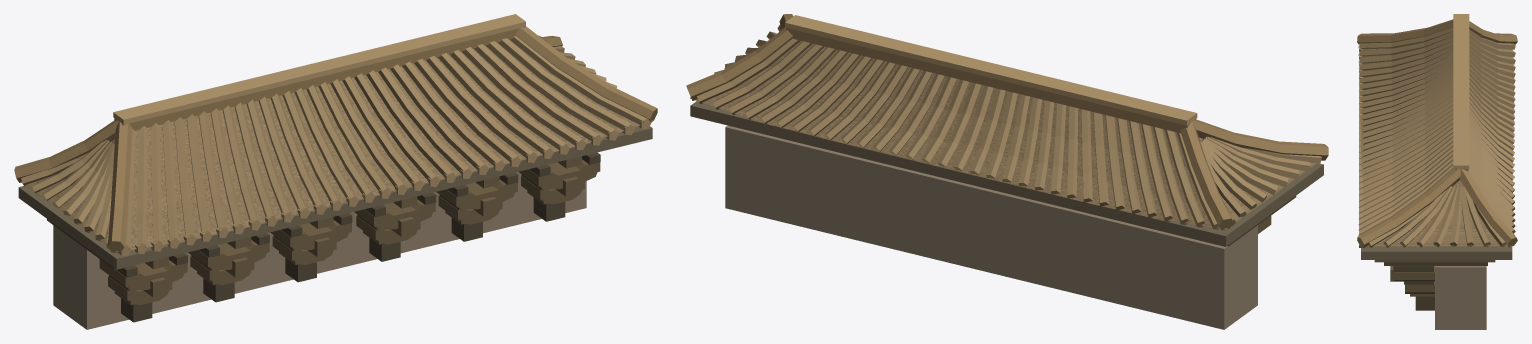
The model's file is huangpu-juxingcheng-bank-tiled-door-canopy-lod.glb.
The picture shows the model from 3 angles, left to right: view 1: azimuth 30°, elevation 25°; view 2: azimuth 150°, elevation 25°; view 3: azimuth 270°, elevation 25°; orthographic projection. The views are drawn at different scales.
Parts seen in each view (by area): view 1: 聚兴诚银行大楼入口瓦门罩与檐下斗栱; view 2: 聚兴诚银行大楼入口瓦门罩与檐下斗栱; view 3: 聚兴诚银行大楼入口瓦门罩与檐下斗栱.
Boxes of the visible parts, x1,y1,x2,y2 form: 聚兴诚银行大楼入口瓦门罩与檐下斗栱: (14, 14, 657, 329); 聚兴诚银行大楼入口瓦门罩与檐下斗栱: (686, 14, 1328, 329); 聚兴诚银行大楼入口瓦门罩与檐下斗栱: (1357, 14, 1517, 329).
Size of the model in its own units: 6.96 by 2.29 by 2.28.
Materials: 9 (1 with a texture image).
